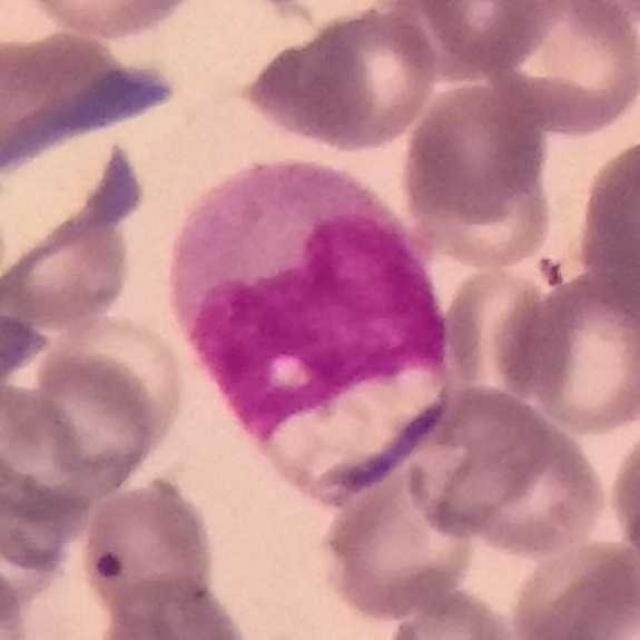mono: (171, 152, 456, 502)
